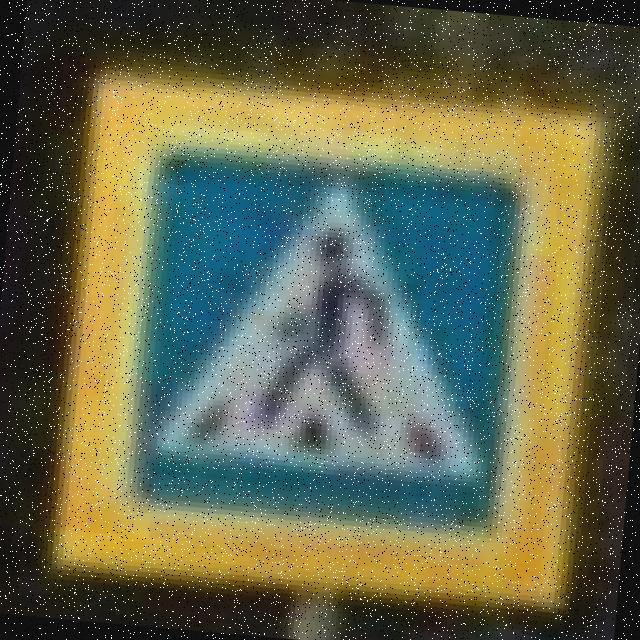Przejscie dla pieszych: (40, 57, 618, 619)
